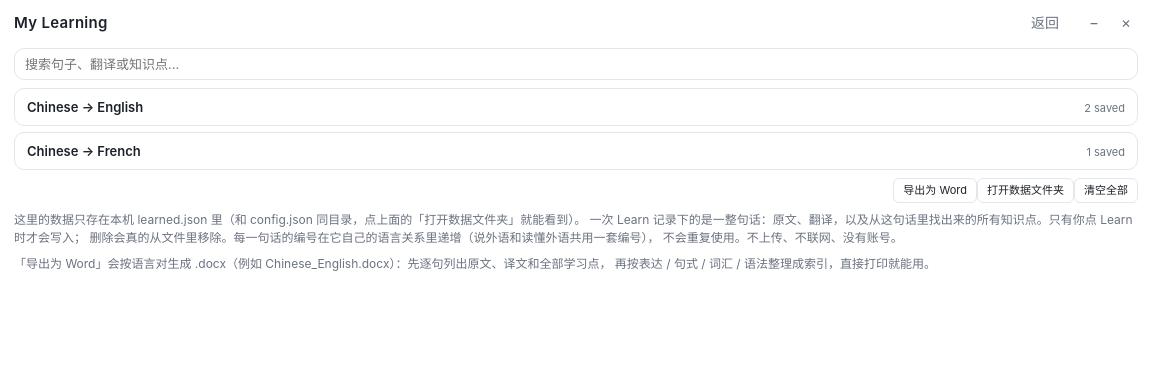
Test case: MyLanguagePage: search › finds a sentence by a point inside it, and answers with the whole sentence
The width and height of the screenshot is (1152, 368).
Check: the text "Chinese → English" is shown, box x1=27 y1=99 x2=143 y2=115
Type "something came up" into the search field named "搜索 My Learning" at (576, 64), box x1=14 y1=48 x2=1138 y2=80
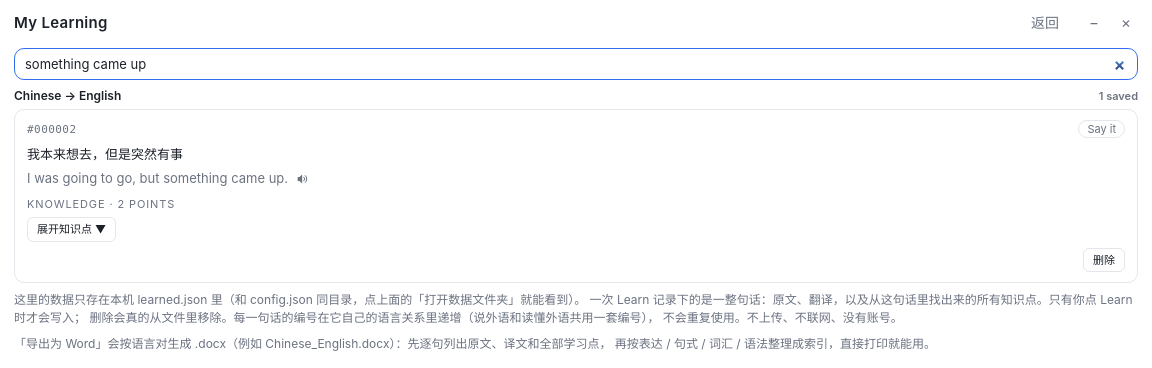
Check: the text "我本来想去，但是突然有事" is shown, box x1=27 y1=146 x2=183 y2=162
Check: the text "I was going to go, but something came up." is shown, box x1=27 y1=169 x2=312 y2=189
Check: the text "#000002" is shown, box x1=27 y1=123 x2=76 y2=136
